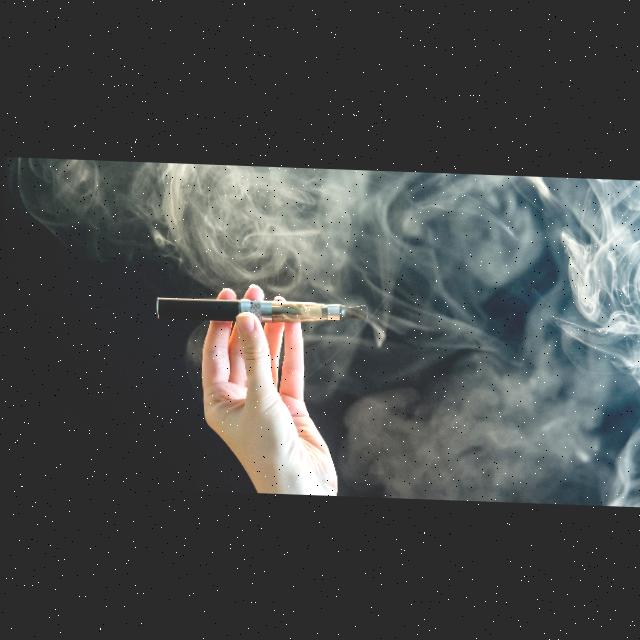vape: (155, 294, 368, 325)
